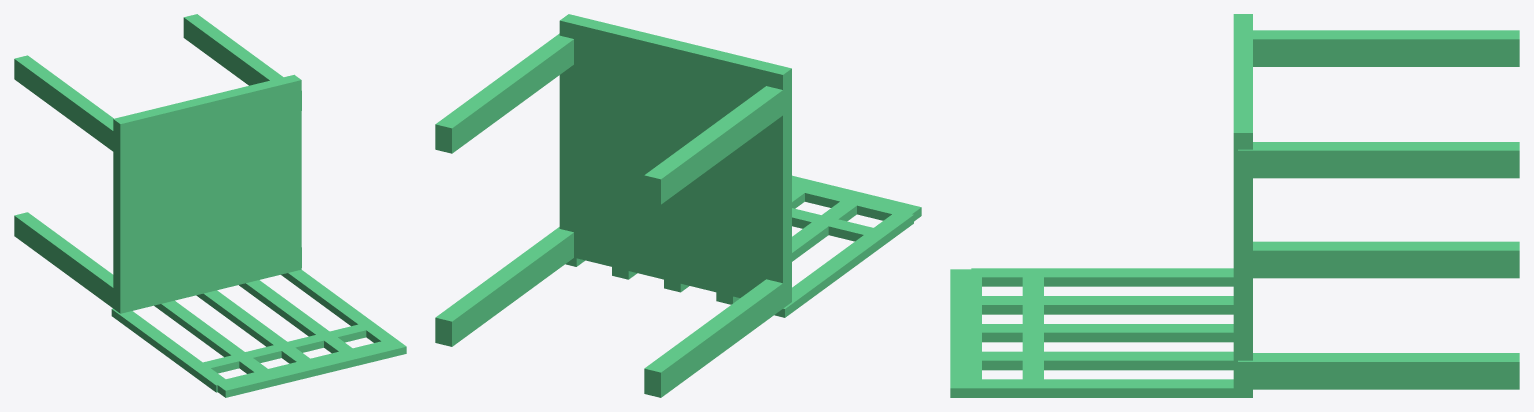
Rendered from chair.gltf.
The picture shows the model from 3 angles, left to right: view 1: azimuth 30°, elevation 25°; view 2: azimuth 150°, elevation 25°; view 3: azimuth 270°, elevation 25°; orthographic projection. The views are drawn at different scales.
Parts seen in each view (by area): view 1: Object.5, Object.1, Object.3, Object.2, Object.13, Object.10, Object.9, Object.11, Object.8, Object.7, Object.6, Object.12; view 2: Object.5, Object.1, Object.3, Object.2, Object.4, Object.10, Object.9, Object.12, Object.13, Object.11, Object.8; view 3: Object.2, Object.4, Object.3, Object.1, Object.5, Object.7, Object.6, Object.10, Object.8, Object.9, Object.12, Object.11 (+1 smaller).
Boxes of the visible parts, x1,y1,x2,y2 form: Object.5: [113, 74, 301, 313]; Object.1: [14, 55, 118, 155]; Object.3: [14, 212, 118, 312]; Object.2: [183, 14, 301, 110]; Object.13: [218, 344, 406, 397]; Object.10: [111, 308, 229, 392]; Object.9: [154, 300, 271, 374]; Object.11: [189, 321, 377, 377]; Object.8: [196, 290, 313, 364]; Object.7: [239, 280, 356, 354]; Object.6: [281, 269, 394, 342]; Object.12: [214, 338, 402, 394]; Object.5: [559, 14, 791, 307]; Object.1: [644, 86, 788, 204]; Object.3: [644, 279, 785, 397]; Object.2: [435, 33, 573, 153]; Object.4: [435, 227, 573, 346]; Object.10: [774, 210, 913, 317]; Object.9: [716, 198, 861, 304]; Object.12: [792, 180, 916, 221]; Object.13: [792, 175, 921, 219]; Object.11: [792, 208, 890, 242]; Object.8: [664, 185, 809, 292]; Object.2: [1238, 142, 1519, 178]; Object.4: [1238, 353, 1519, 389]; Object.3: [1253, 241, 1519, 278]; Object.1: [1253, 30, 1519, 66]; Object.5: [1233, 14, 1252, 388]; Object.7: [971, 351, 1233, 370]; Object.6: [971, 379, 1252, 397]; Object.10: [971, 268, 1233, 286]; Object.8: [971, 324, 1233, 342]; Object.9: [971, 296, 1233, 314]; Object.12: [960, 269, 981, 388]; Object.11: [1022, 277, 1043, 387].
Size of the model in its own units: 40.78 by 41.51 by 80.86.
